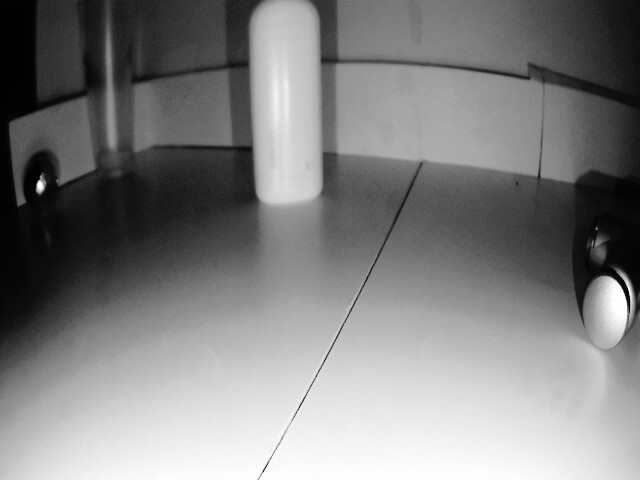silver: (17, 148, 60, 207)
